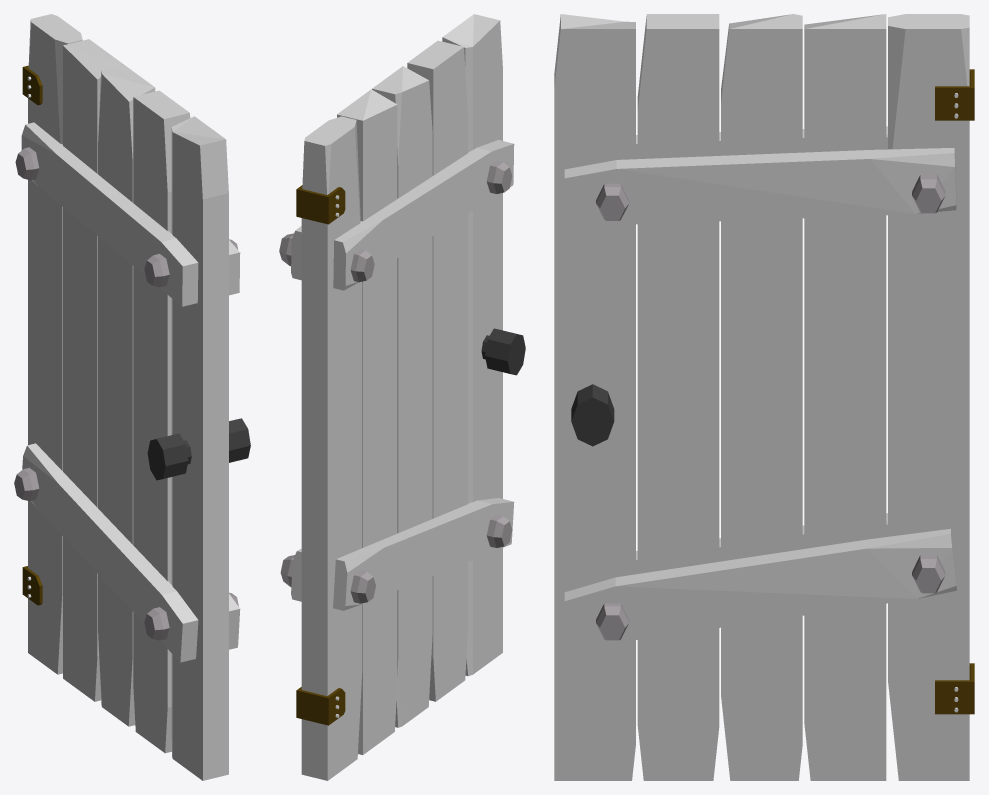
Rendered from Door.fbx.
3 renders of one model, left to right at view 1: azimuth 30°, elevation 25°; view 2: azimuth 150°, elevation 25°; view 3: azimuth 270°, elevation 25°, orthographic. The views are drawn at different scales.
Parts seen in each view (by area): view 1: Door, Rivet, Door handle, Сorner; view 2: Door, Rivet, Сorner, Door handle; view 3: Door, Rivet, Сorner, Door handle.
Part boxes in pixels (<box>): Door: <box>21,14,240,780</box>; Rivet: <box>14,147,238,640</box>; Door handle: <box>147,418,250,480</box>; Сorner: <box>22,65,42,605</box>; Door: <box>291,14,514,780</box>; Rivet: <box>279,160,512,603</box>; Сorner: <box>296,185,345,725</box>; Door handle: <box>481,328,525,375</box>; Door: <box>554,14,969,780</box>; Rivet: <box>596,174,945,640</box>; Сorner: <box>935,69,974,714</box>; Door handle: <box>571,384,614,446</box>.
Bounding box in the file's own units: 0.2989 × 1.01 × 2.
